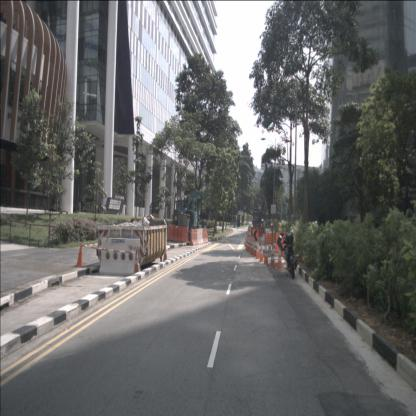barrier: (100, 236, 140, 276), (168, 224, 187, 243), (190, 228, 198, 247), (250, 227, 262, 237), (197, 227, 204, 244), (203, 228, 209, 244)
cone: (74, 242, 85, 267), (268, 244, 278, 271), (275, 247, 284, 272), (134, 248, 140, 277), (262, 242, 269, 266), (254, 241, 262, 260), (259, 241, 264, 263), (252, 240, 258, 257), (163, 243, 168, 262), (252, 239, 257, 257), (245, 234, 249, 252), (250, 237, 254, 255), (248, 237, 252, 253), (247, 236, 250, 252), (245, 235, 248, 250), (244, 233, 247, 247)
